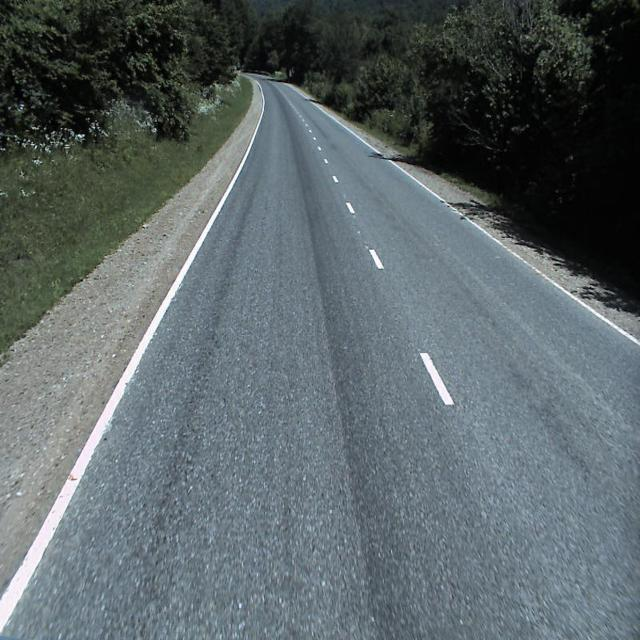road: (636, 336, 640, 340)
